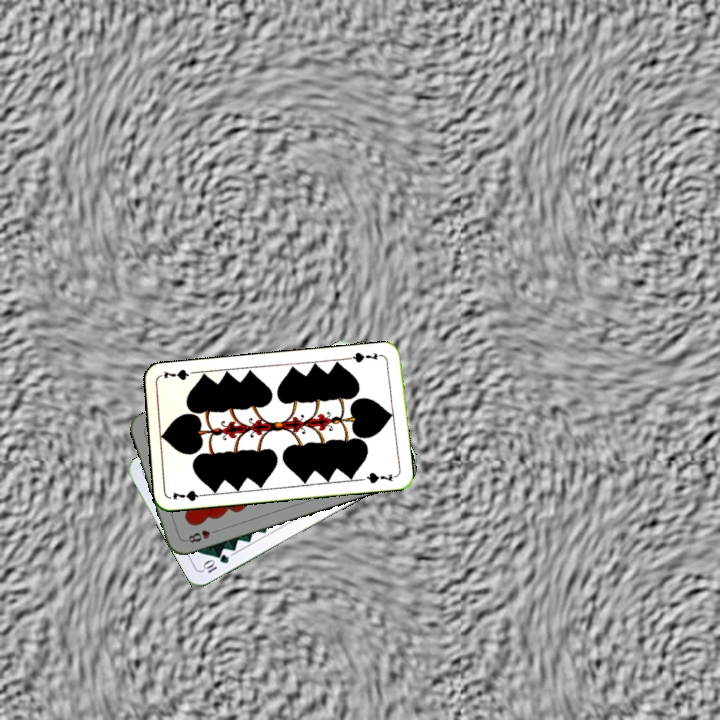G10: (199, 550, 232, 576)
G7: (169, 486, 209, 504), (345, 348, 385, 365)
H8: (182, 525, 221, 545)
